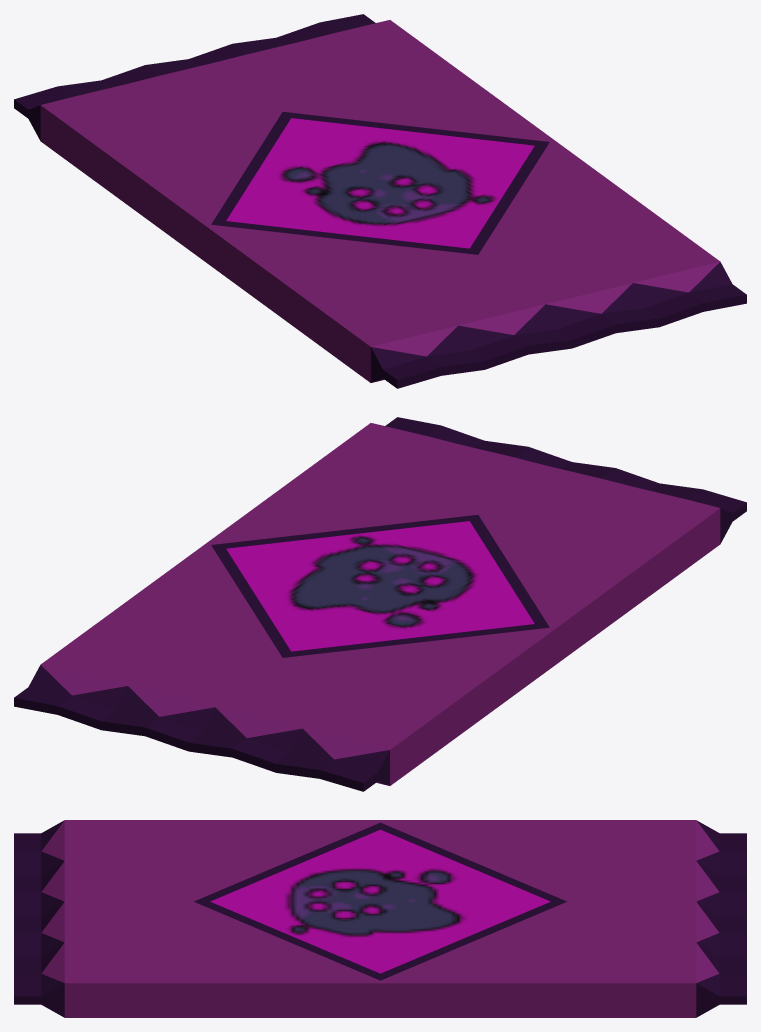
The model's file is CardPack_Dark.fbx.
3 renders of one model, top to bottom at view 1: azimuth 30°, elevation 25°; view 2: azimuth 150°, elevation 25°; view 3: azimuth 270°, elevation 25°, orthographic. The views are drawn at different scales.
Visible parts, largest first — view 1: Dark; view 2: Dark; view 3: Dark.
Boxes of the visible parts, box(x1,y1,x2,y2) form: Dark: box(14, 14, 746, 388); Dark: box(14, 417, 746, 791); Dark: box(14, 820, 746, 1017).
Bounding box in the file's own units: 17.42 × 1.73 × 33.09.
